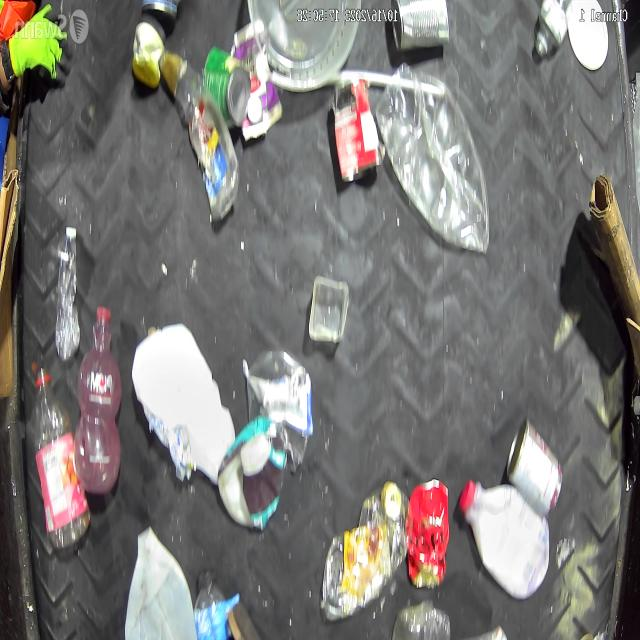can: (506, 416, 564, 518), (334, 76, 386, 183), (406, 479, 450, 589), (204, 45, 252, 128), (391, 0, 450, 50)
milk_jug: (131, 323, 237, 485), (458, 479, 551, 602), (124, 526, 198, 640)
plastic_bottle: (375, 64, 489, 254), (159, 52, 240, 225), (321, 481, 409, 622), (33, 366, 91, 551), (246, 0, 361, 93), (74, 306, 123, 495), (54, 225, 80, 363), (309, 275, 349, 343), (193, 568, 229, 640), (392, 598, 450, 640), (534, 0, 573, 57)
